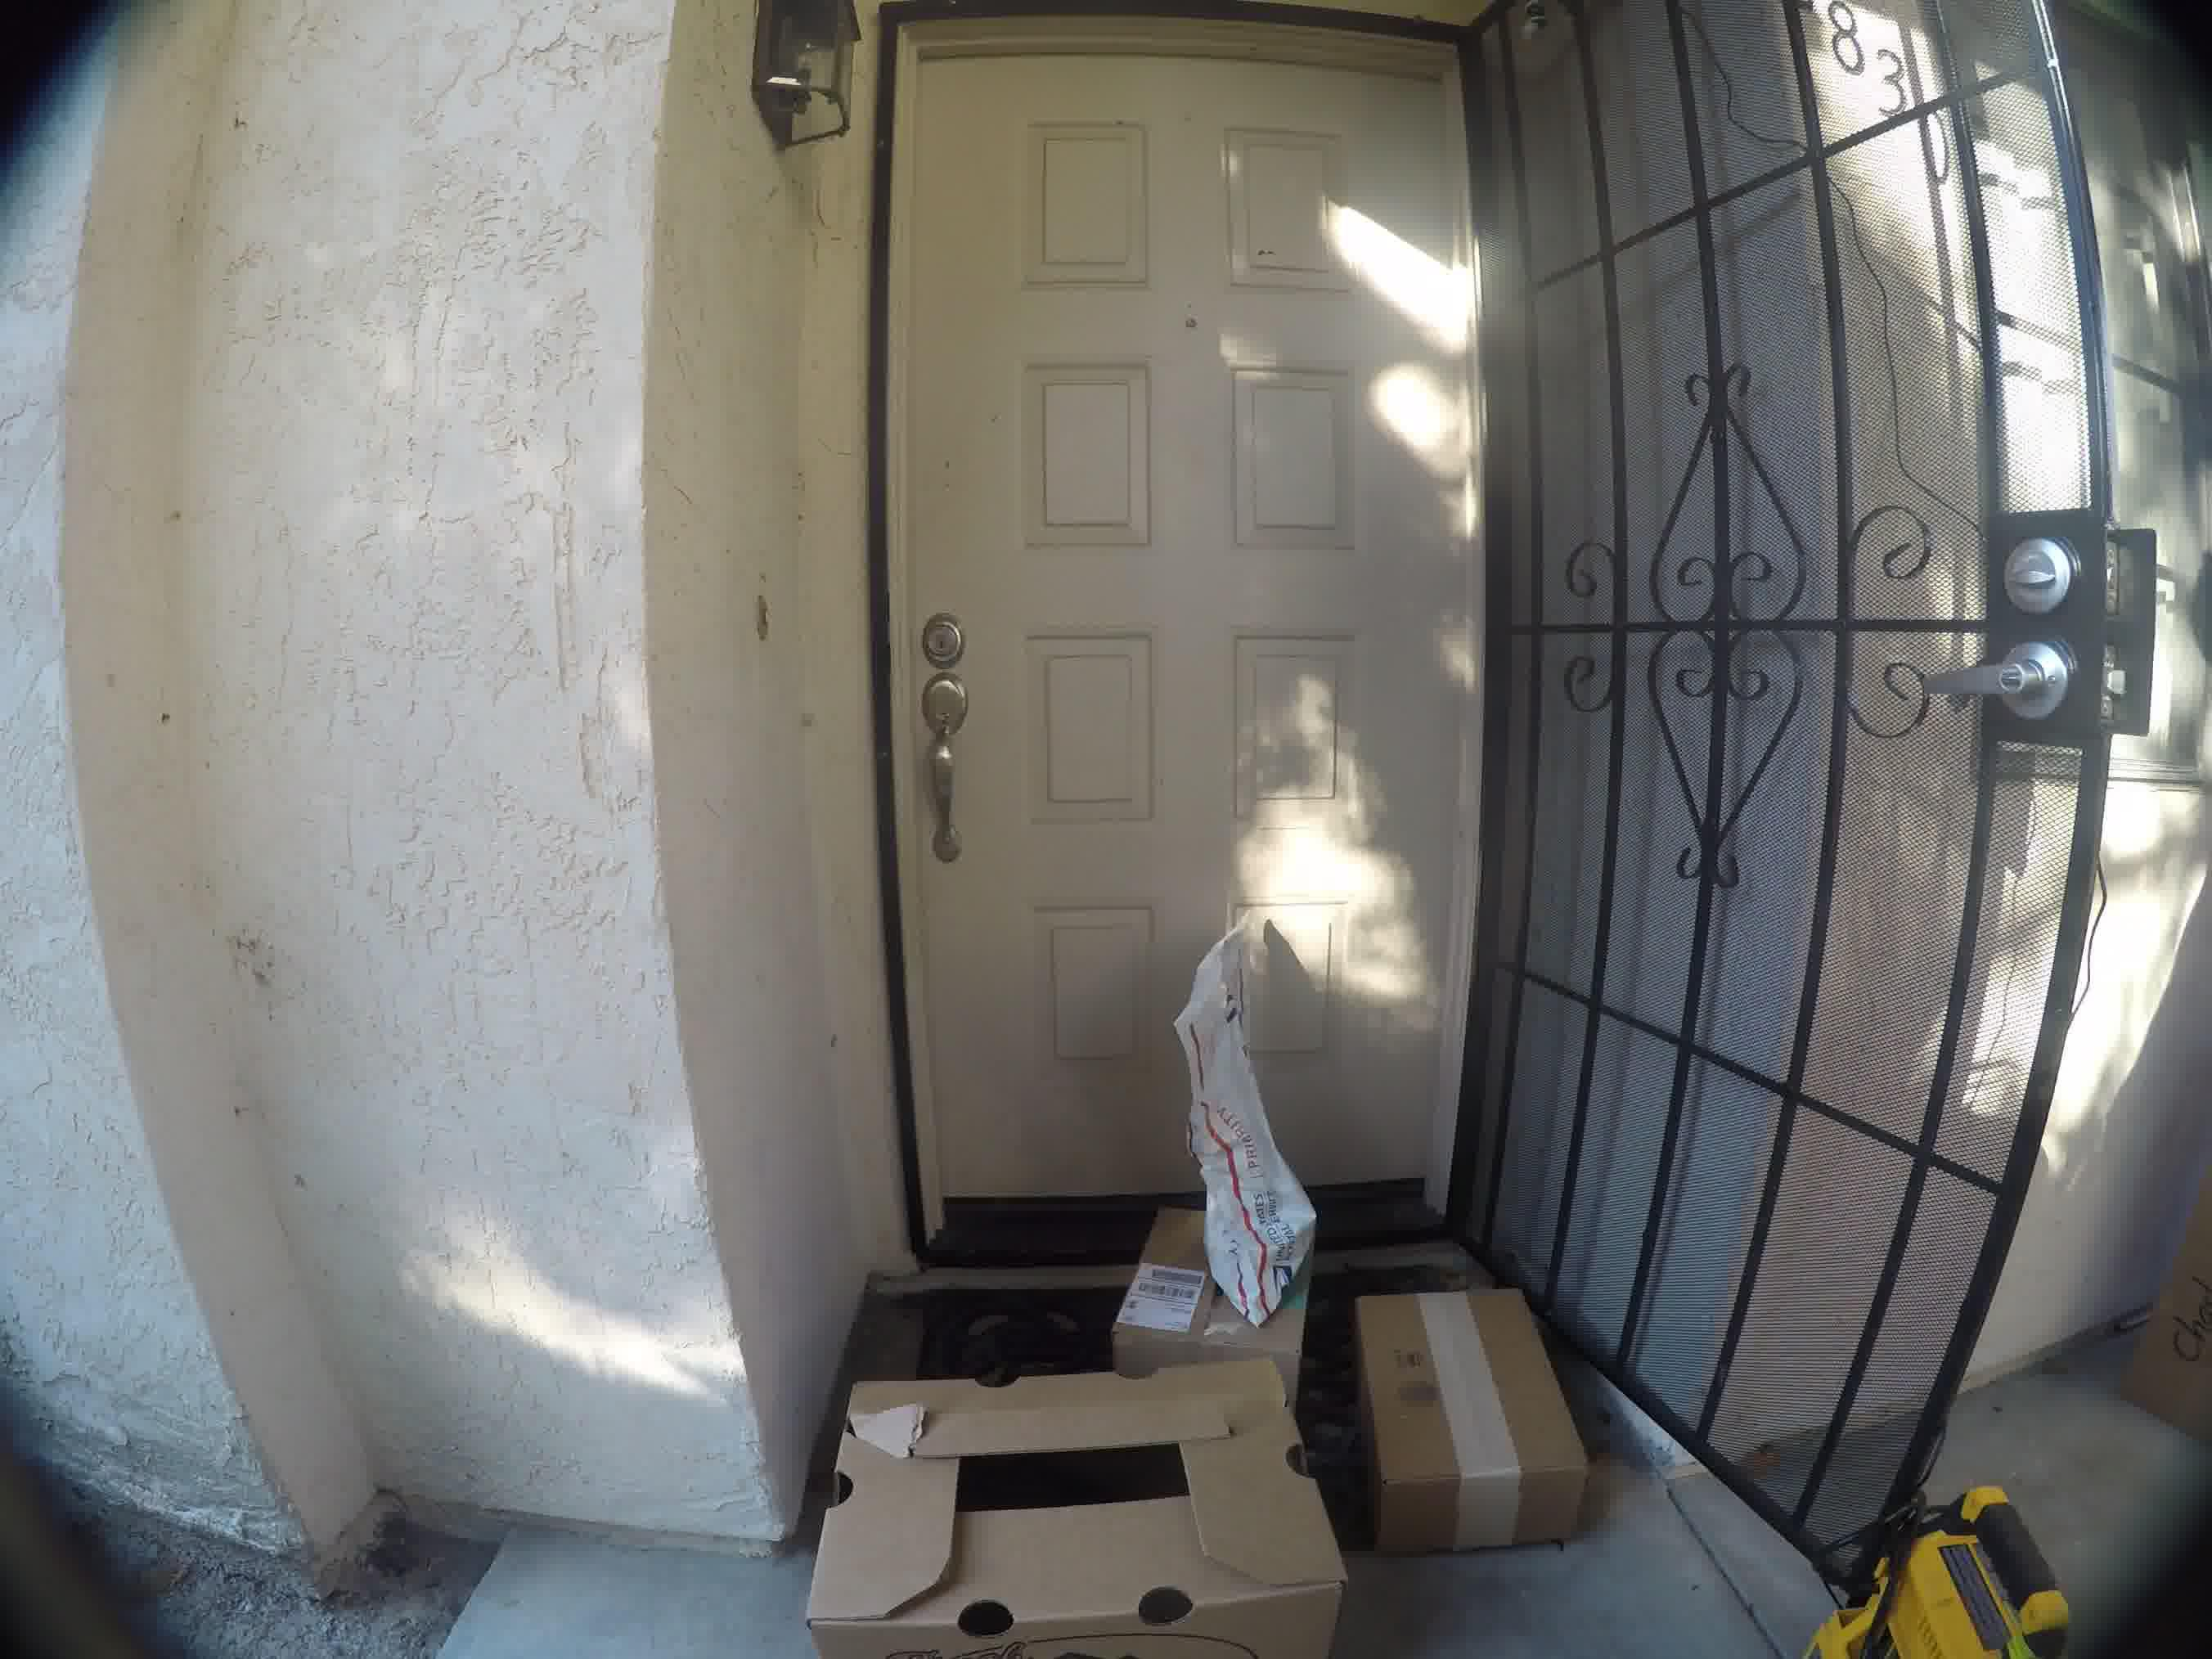box: (834, 1361, 1336, 1626), (1366, 1263, 1587, 1549)
plastic_bag: (1158, 932, 1334, 1293)
